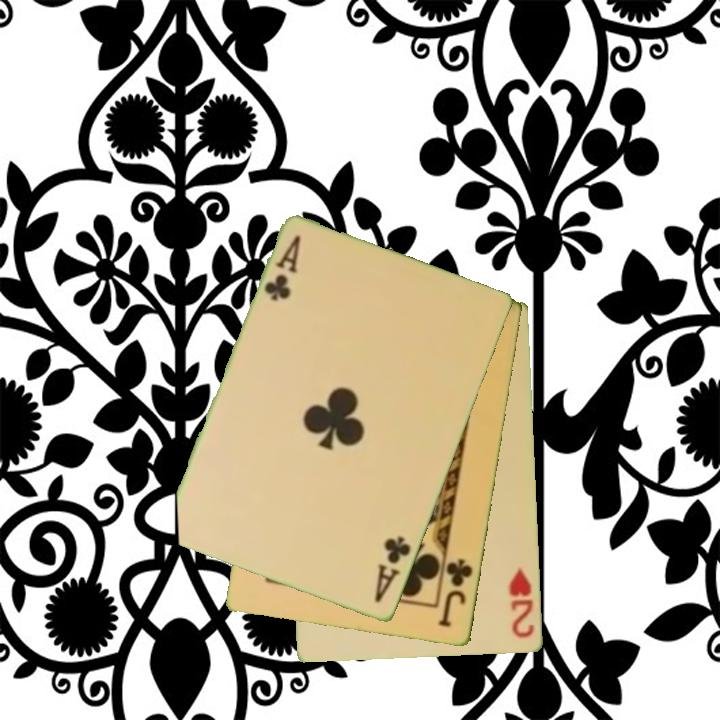2h: (506, 564, 538, 642)
Ac: (260, 233, 304, 305), (371, 533, 414, 606)
Jc: (435, 555, 476, 631)
